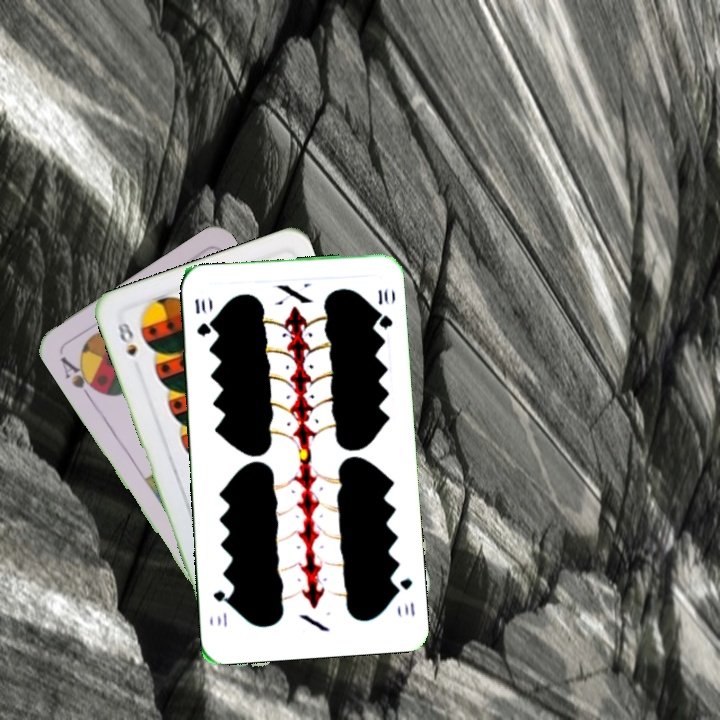G10: (390, 574, 417, 620), (191, 294, 213, 339)
S8: (113, 318, 140, 359)
SA: (56, 352, 103, 403)
